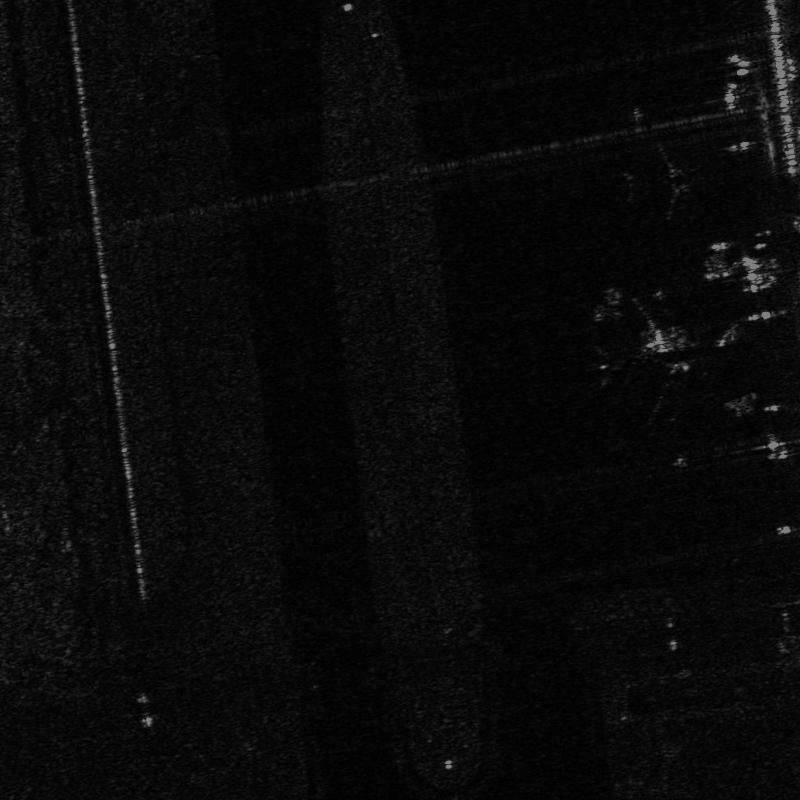Boeing787: (596, 298, 706, 421), (615, 139, 703, 222)
